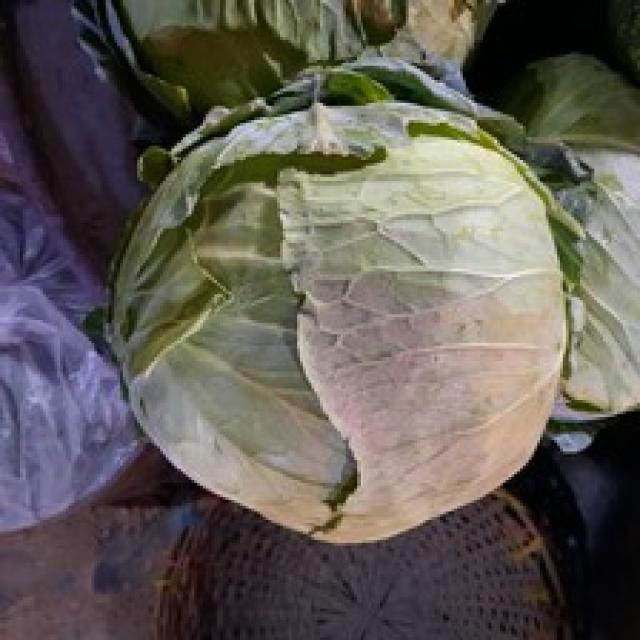Cabbage: (127, 95, 570, 546)
